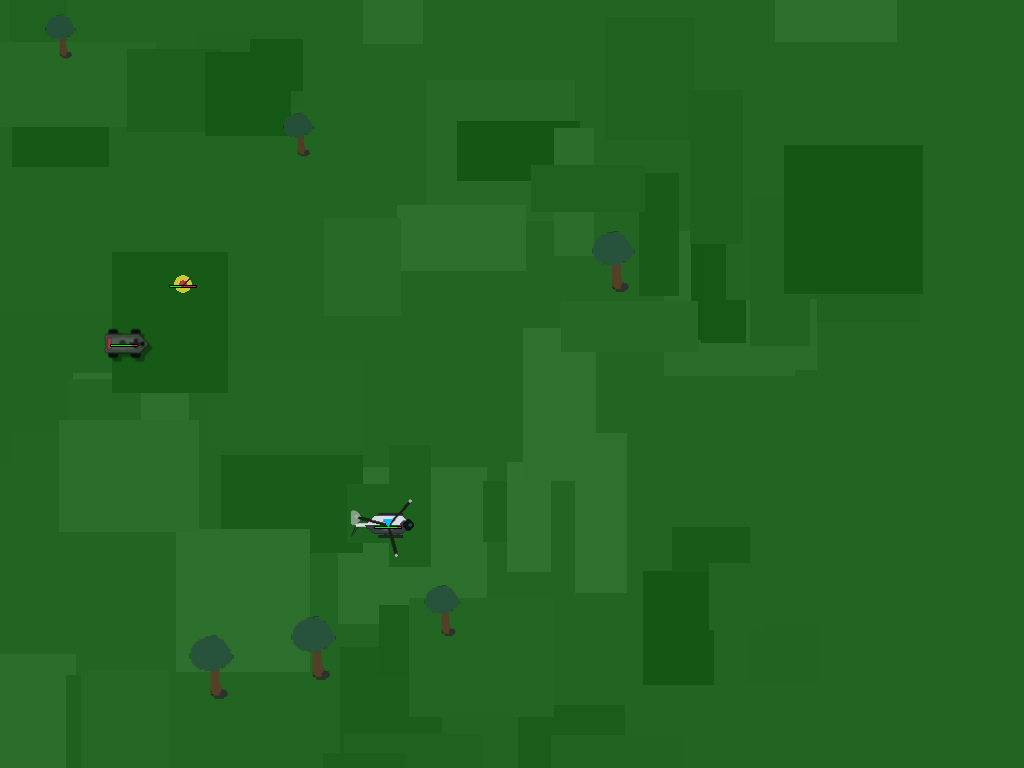M1A2_usa: (104, 323, 144, 363)
Rifleman: (166, 266, 200, 300)
Type99: (368, 505, 408, 545)
